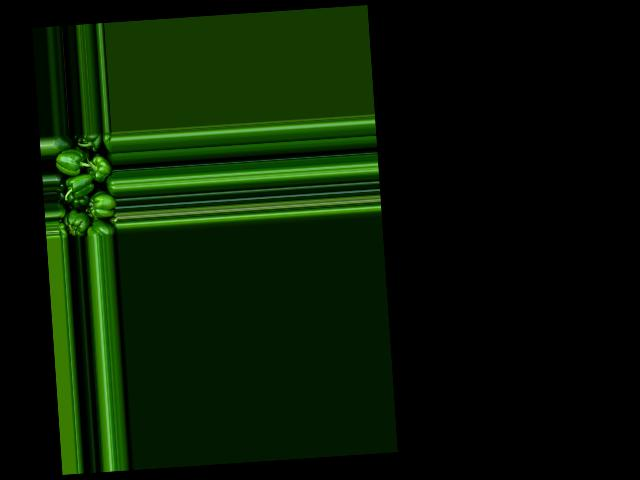bell_pepper: (52, 134, 73, 158)
